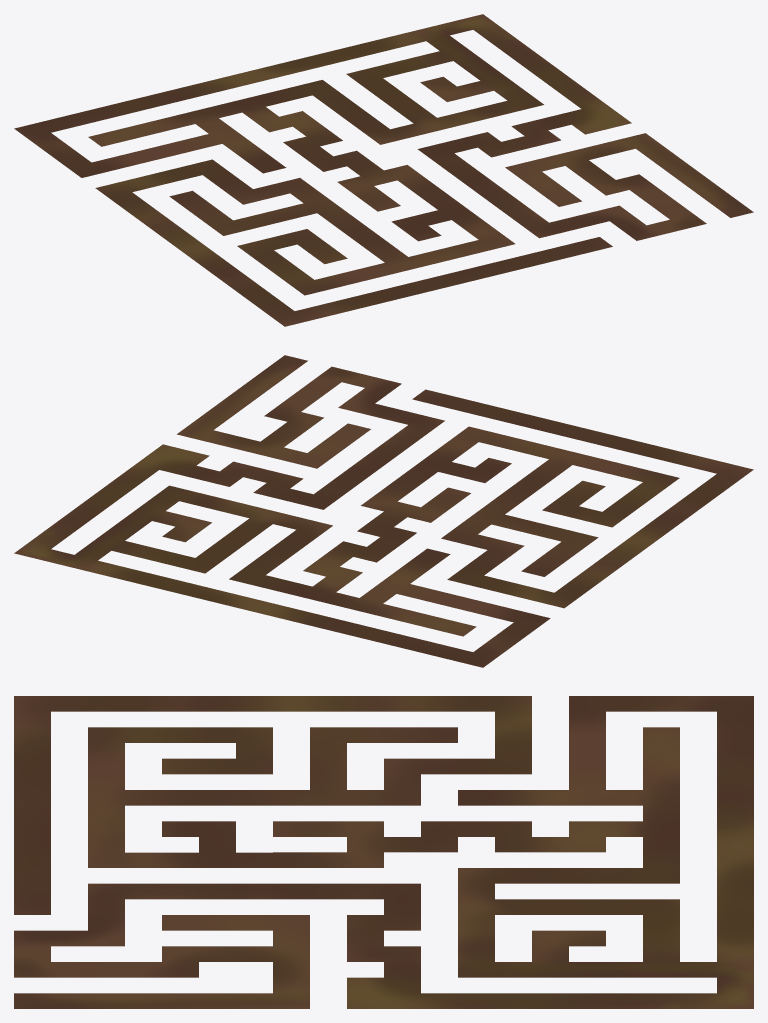
Rendered from caveFloorFinal.FBX.
3 views of the same model, one above another, from view 1: azimuth 30°, elevation 25°; view 2: azimuth 150°, elevation 25°; view 3: azimuth 270°, elevation 25° (orthographic). The views are drawn at different scales.
Parts seen in each view (by area): view 1: floor; view 2: floor; view 3: floor.
Part boxes in pixels (x1,y1,x2,y2): floor: [14, 14, 753, 326]; floor: [14, 355, 753, 667]; floor: [14, 696, 753, 1008].
Bounding box in the file's own units: 200 × 2.74e-05 × 200.
1 material, 1 textured.
